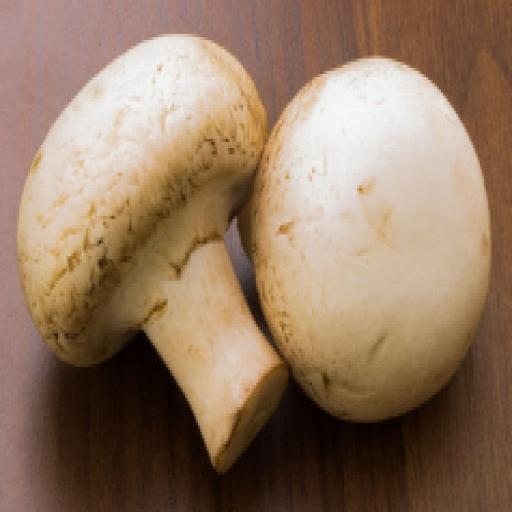Button Mushroom: (18, 27, 291, 476), (252, 49, 496, 421)
